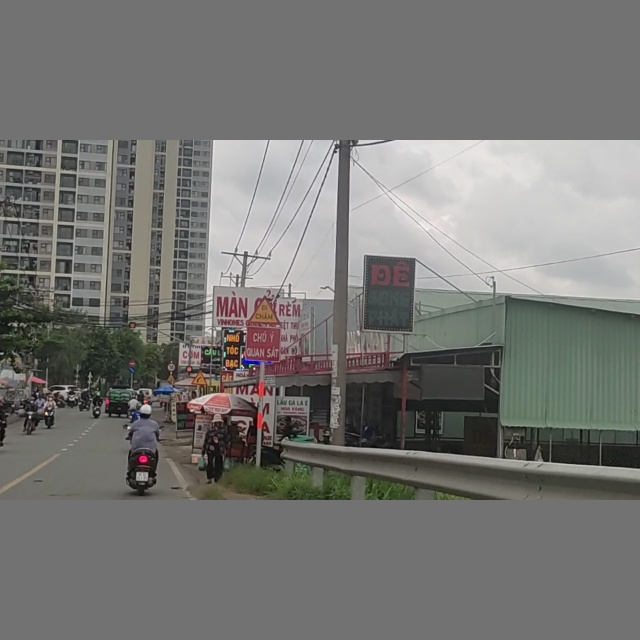W.201b: (191, 370, 208, 386)
W.245a: (250, 296, 279, 325)
